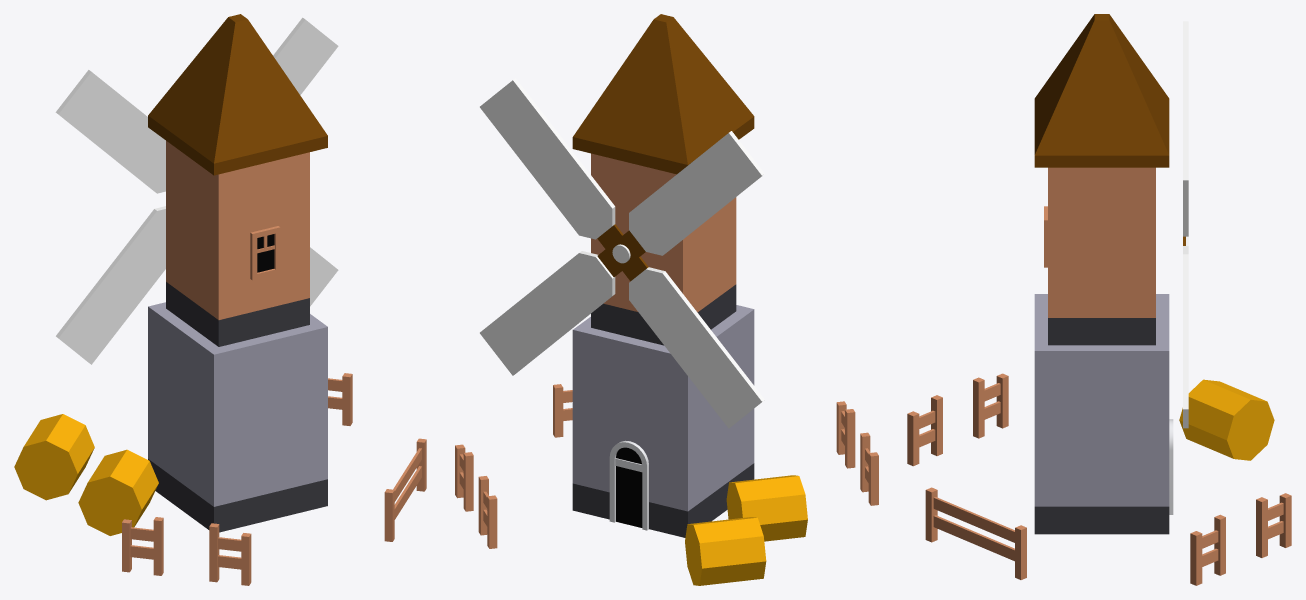
Rendered from Moulin.fbx.
3 views of the same model, side by side, from view 1: azimuth 30°, elevation 25°; view 2: azimuth 150°, elevation 25°; view 3: azimuth 270°, elevation 25° (orthographic). The views are drawn at different scales.
Visible parts, largest first — view 1: block_23, block_24, building_windmill_wings_22, roof_point_rounded_27, cylinder_vertex_36, cylinder_vertex_37, fence_woodGate_33, fence_wood_34, window_detail_29, fence_woodGate_32; view 2: building_windmill_wings_22, block_23, roof_point_rounded_27, block_24, cylinder_vertex_36, cylinder_vertex_37, door_rounded_28, fence_woodGate_33, fence_woodGate_32, fence_wood_34; view 3: block_23, block_24, roof_point_rounded_27, cylinder_vertex_36, fence_wood_34, fence_woodGate_33, fence_woodGate_32, building_windmill_wings_22.
Boxes of the visible parts, left/top/right/bottom form: block_23: left=148, top=302, right=327, bottom=532; block_24: left=166, top=141, right=309, bottom=346; building_windmill_wings_22: left=55, top=17, right=338, bottom=364; roof_point_rounded_27: left=148, top=14, right=327, bottom=175; cylinder_vertex_36: left=14, top=414, right=94, bottom=500; cylinder_vertex_37: left=78, top=449, right=158, bottom=535; fence_woodGate_33: left=122, top=517, right=251, bottom=585; fence_wood_34: left=384, top=438, right=426, bottom=541; window_detail_29: left=250, top=226, right=280, bottom=280; fence_woodGate_32: left=328, top=373, right=352, bottom=425; building_windmill_wings_22: left=480, top=78, right=764, bottom=428; block_23: left=572, top=305, right=754, bottom=537; roof_point_rounded_27: left=572, top=14, right=754, bottom=174; block_24: left=591, top=153, right=736, bottom=345; cylinder_vertex_36: left=685, top=517, right=766, bottom=585; cylinder_vertex_37: left=726, top=475, right=807, bottom=541; door_rounded_28: left=609, top=440, right=648, bottom=530; fence_woodGate_33: left=836, top=401, right=878, bottom=505; fence_woodGate_32: left=455, top=444, right=497, bottom=548; fence_wood_34: left=553, top=384, right=572, bottom=437; block_23: left=1034, top=294, right=1169, bottom=534; block_24: left=1048, top=167, right=1155, bottom=345; roof_point_rounded_27: left=1034, top=14, right=1169, bottom=167; cylinder_vertex_36: left=1179, top=379, right=1274, bottom=460; fence_wood_34: left=925, top=487, right=1026, bottom=579; fence_woodGate_33: left=907, top=373, right=1008, bottom=466; fence_woodGate_32: left=1190, top=493, right=1291, bottom=585; building_windmill_wings_22: left=1183, top=21, right=1188, bottom=428.
Size of the model in its own units: 28.51 by 40.5 by 28.51.
